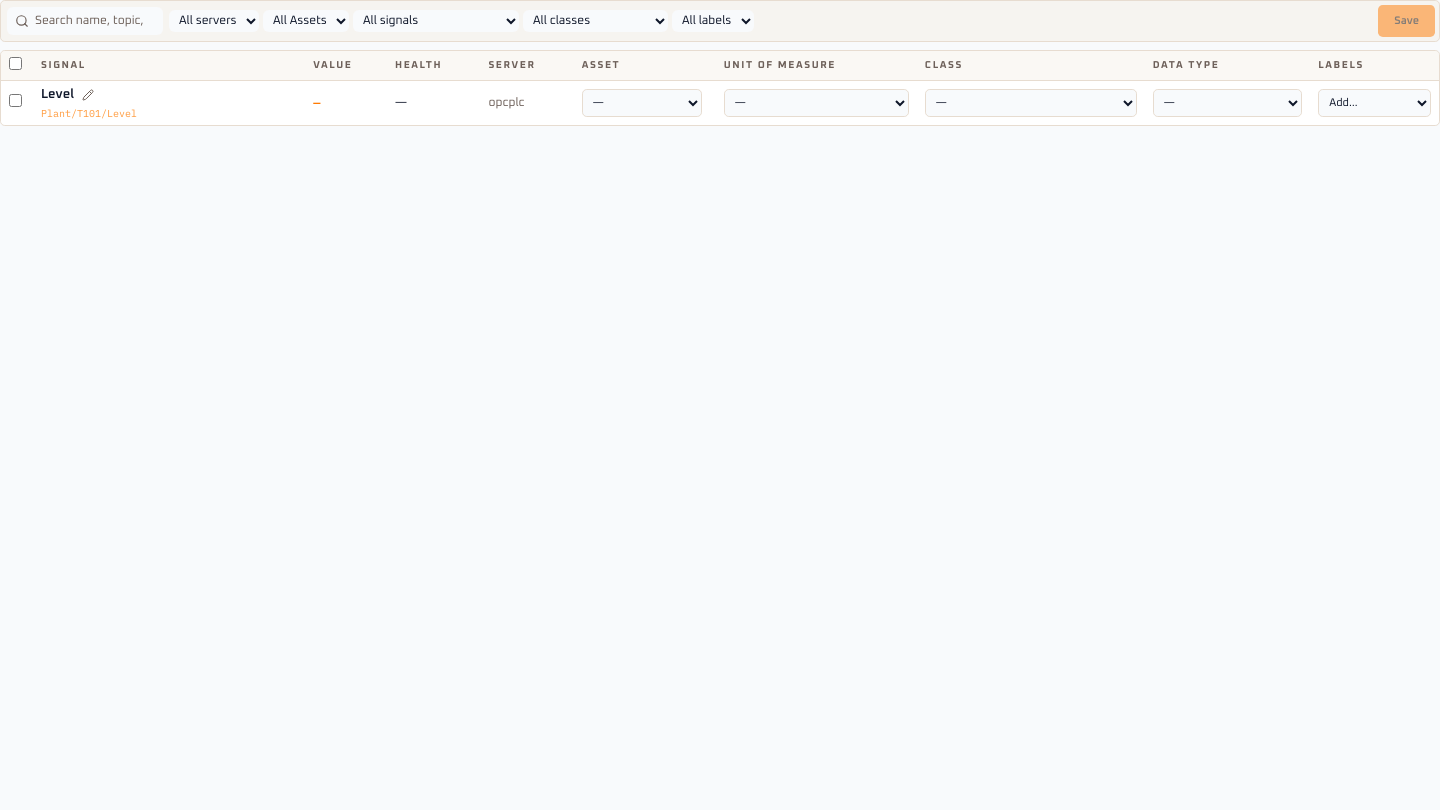
Test: SignalsTab › shows the MQTT topic and an edit control beside the name
Check: the button "Level" is shown, box [41,86,74,104]
Check: the text "Plant/T101/Level" is shown, box [41,107,137,120]
Click the button named "edit level": (88, 95) [78,85,98,105]
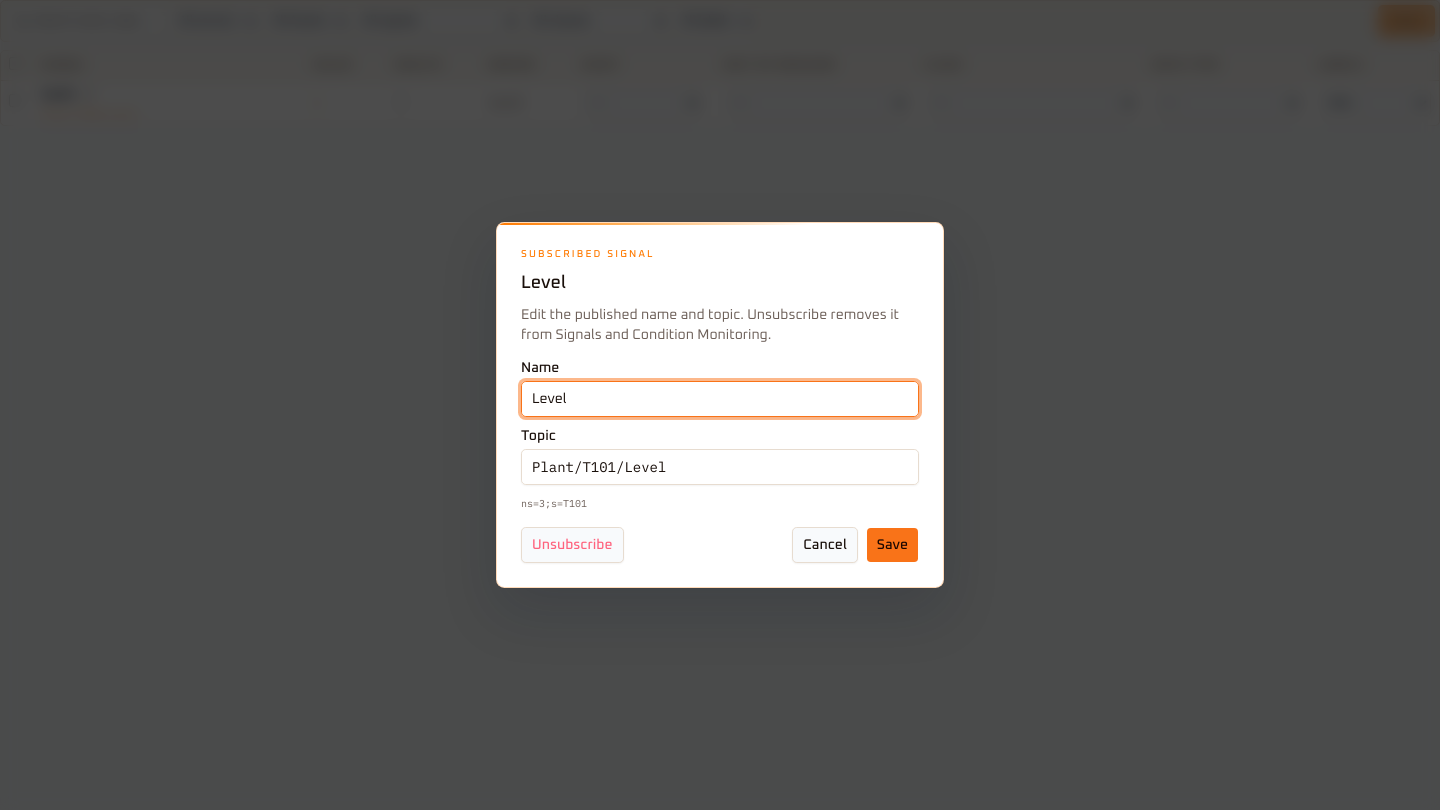
Check: the dialog is shown, box [496,222,944,588]
